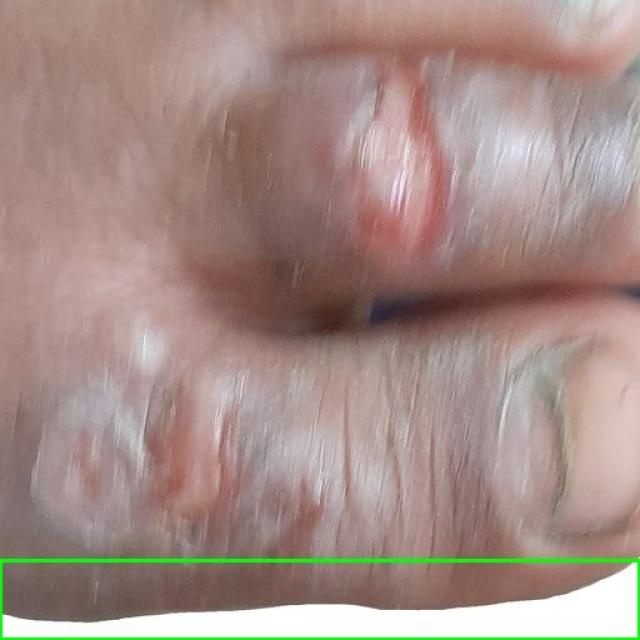Eczema: (0, 560, 639, 639)
